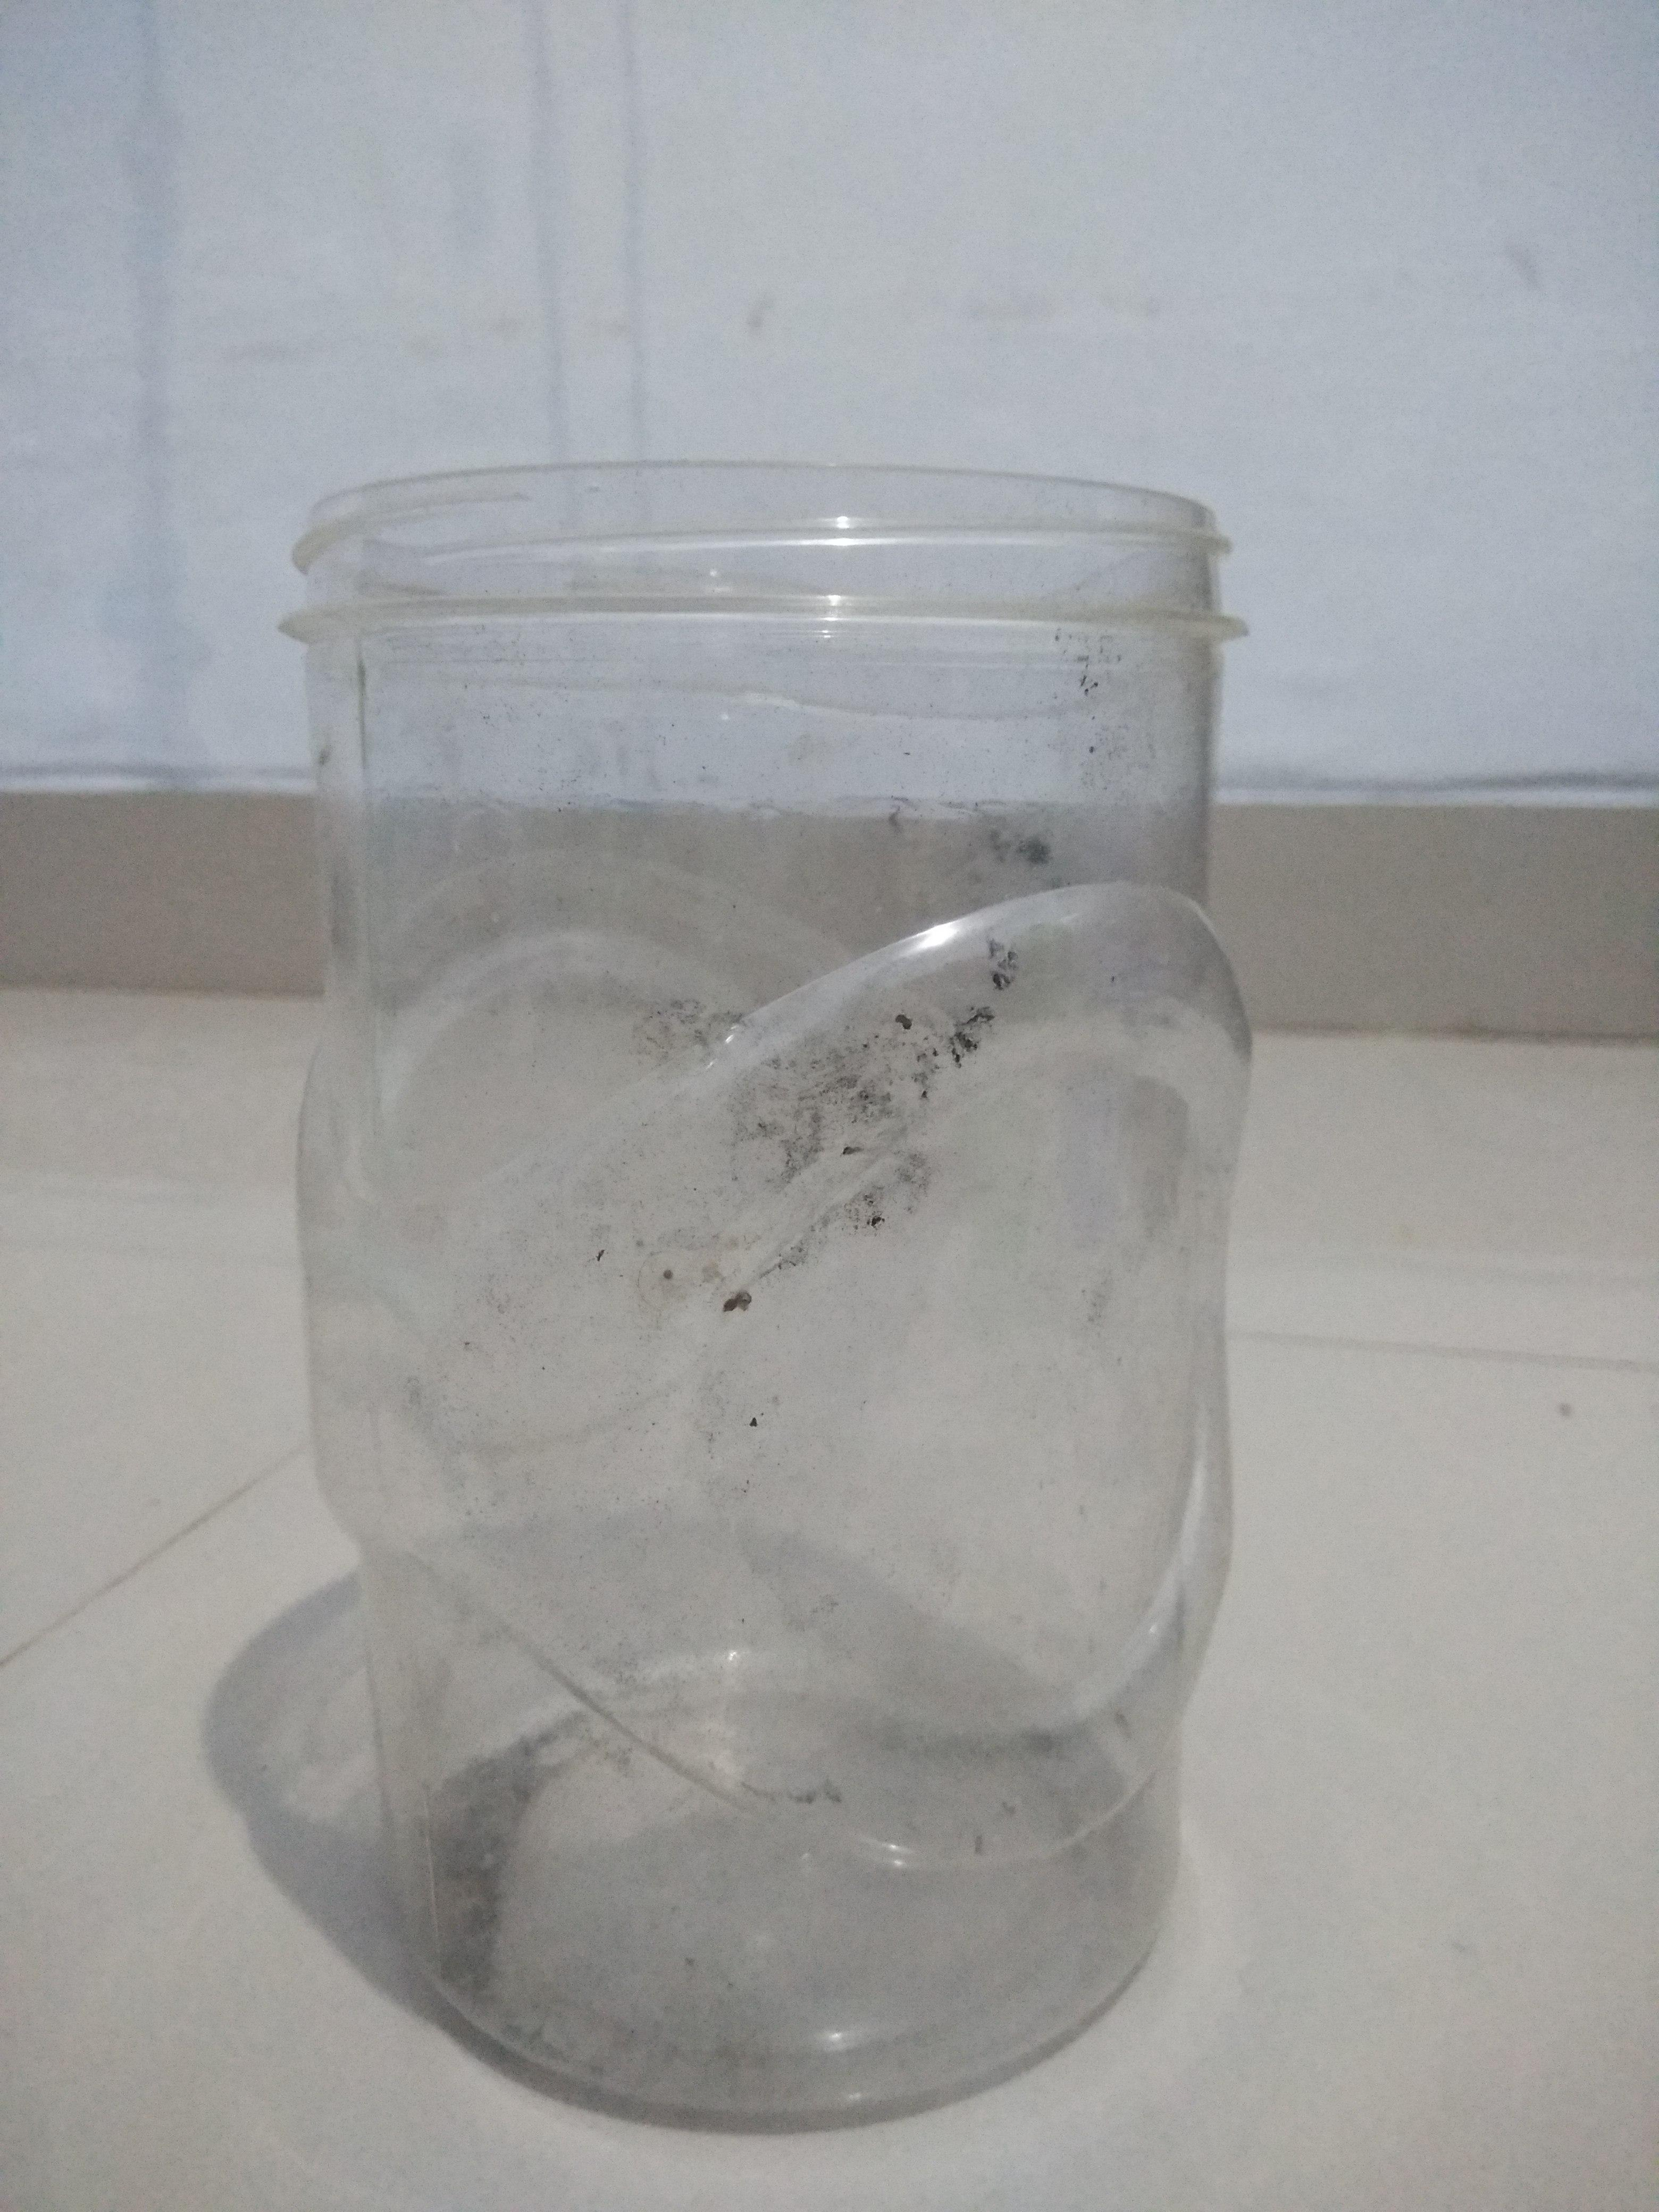PETE: (277, 458, 1260, 2120)
